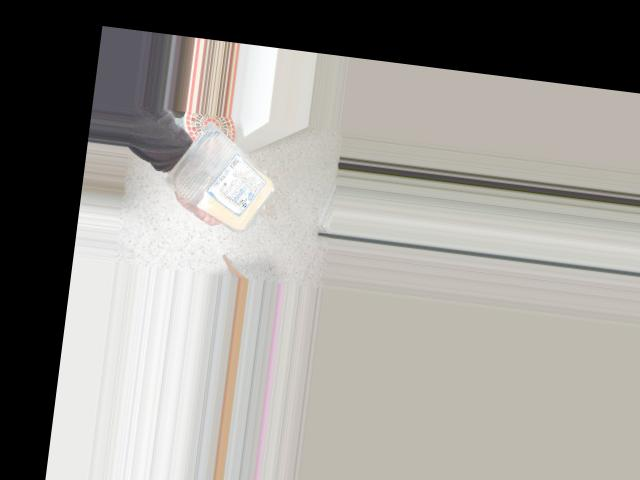cheese: (171, 128, 284, 228)
